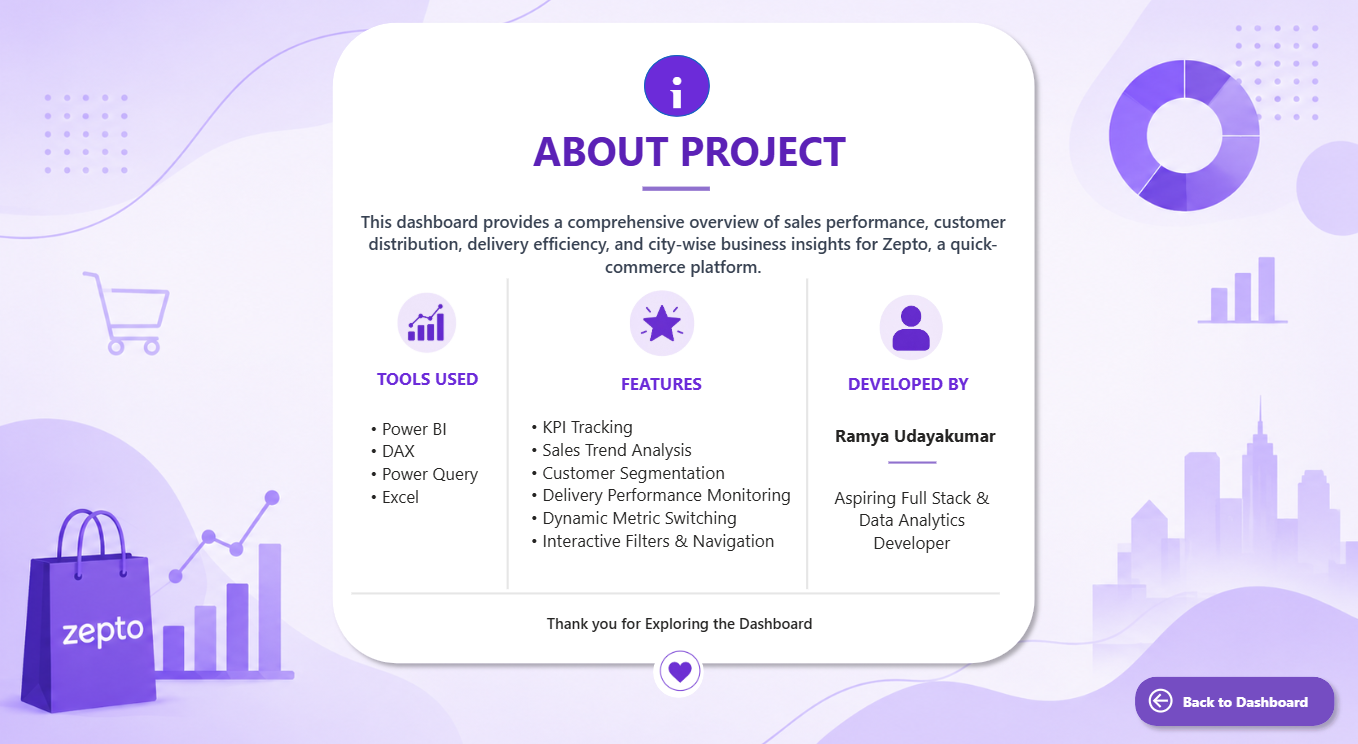

The page's visual inventory and layout, read from the dashboard file:
{"tool":"powerbi","page":{"name":"About","canvas":[1280,720],"ordinal":2},"visuals":[{"type":"shape","title":"Rectangle behind","box":[304.3,23.1,677.9,620.1],"z":0},{"type":"shape","title":"Info","box":[606.2,61.6,61.9,58.2],"z":0,"group":"g1"},{"type":"image","title":"Icon","box":[370,277,66,76],"z":0,"group":"g4"},{"type":"image","title":"Icon","box":[562,282,124,64],"z":0,"group":"g2"},{"type":"image","title":"Icon","box":[816,286,85,64],"z":0,"group":"g3"},{"type":"actionButton","box":[1059.5,637.9,205.6,64.4],"z":0,"group":"g5"},{"type":"group","id":"g1","title":"About Section","box":[325.3,61.6,634.7,221.1],"z":1000},{"type":"textbox","title":"About Project","box":[447.5,120.6,401.5,66.1],"z":1000,"group":"g1"},{"type":"textbox","title":"Sub header","box":[331,350,143,42],"z":1000,"group":"g4"},{"type":"textbox","title":"Sub header","box":[491,354,264,38],"z":1000,"group":"g2"},{"type":"textbox","title":"Sub header","box":[774,354,161,41],"z":1000,"group":"g3"},{"type":"actionButton","box":[1076.2,653.5,35.6,32.2],"z":1000,"group":"g5"},{"type":"shape","title":"Line","box":[604.6,178.8,63.5,17.3],"z":2000,"group":"g1"},{"type":"group","id":"g2","title":"Features","box":[491,282,265.7,286],"z":2000},{"type":"textbox","title":"Points","box":[495.7,394.5,261,173.5],"z":2000,"group":"g2"},{"type":"textbox","title":"Points","box":[343.5,397.4,131.3,137.5],"z":2000,"group":"g4"},{"type":"textbox","title":"Points","box":[776.9,403.2,168.8,34.4],"z":2000,"group":"g3"},{"type":"textbox","title":"Description","box":[325.3,200.9,634.7,81.8],"z":3000,"group":"g1"},{"type":"group","id":"g3","title":"Developed by","box":[771.6,286,174.1,278.4],"z":3000},{"type":"shape","title":"Line","box":[836,428,45,33],"z":3000,"group":"g3"},{"type":"group","id":"g4","title":"Tools Used","box":[331,277,143.8,257.9],"z":4000},{"type":"textbox","box":[771.6,461.2,173.5,103.2],"z":4000,"group":"g3"},{"type":"group","id":"g5","title":"Back Button","box":[1059.5,637.9,205.3,64.7],"z":5000},{"type":"shape","box":[459,272,37,292],"z":6000},{"type":"shape","box":[741,272,36,292],"z":7000},{"type":"shape","box":[331.6,555.8,609.5,25.3],"z":8000},{"type":"shape","box":[615.3,617.4,47.9,48.9],"z":9000},{"type":"image","box":[618.4,622.1,42.6,38.4],"z":10000},{"type":"textbox","box":[427.5,581.2,425,36.2],"z":11000}]}

Visuals, with their boxes in screenshot pixels (x1, y1, x2, y2), scaled from the page's 1280x720 canvas onto the 1358x744 screenshot:
"Rectangle behind" shape: [left=323, top=24, right=1042, bottom=665]
"Info" shape: [left=643, top=64, right=709, bottom=124]
"Icon" image: [left=393, top=286, right=463, bottom=365]
"Icon" image: [left=596, top=291, right=728, bottom=358]
"Icon" image: [left=866, top=296, right=956, bottom=362]
actionButton: [left=1124, top=659, right=1342, bottom=726]
"About Section" group: [left=345, top=64, right=1019, bottom=292]
"About Project" textbox: [left=475, top=125, right=901, bottom=193]
"Sub header" textbox: [left=351, top=362, right=503, bottom=405]
"Sub header" textbox: [left=521, top=366, right=801, bottom=405]
"Sub header" textbox: [left=821, top=366, right=992, bottom=408]
actionButton: [left=1142, top=675, right=1180, bottom=709]
"Line" shape: [left=641, top=185, right=709, bottom=203]
"Features" group: [left=521, top=291, right=803, bottom=587]
"Points" textbox: [left=526, top=408, right=803, bottom=587]
"Points" textbox: [left=364, top=411, right=504, bottom=553]
"Points" textbox: [left=824, top=417, right=1003, bottom=452]
"Description" textbox: [left=345, top=208, right=1019, bottom=292]
"Developed by" group: [left=819, top=296, right=1003, bottom=583]
"Line" shape: [left=887, top=442, right=935, bottom=476]
"Tools Used" group: [left=351, top=286, right=504, bottom=553]
textbox: [left=819, top=477, right=1003, bottom=583]
"Back Button" group: [left=1124, top=659, right=1342, bottom=726]
shape: [left=487, top=281, right=526, bottom=583]
shape: [left=786, top=281, right=824, bottom=583]
shape: [left=352, top=574, right=998, bottom=600]
shape: [left=653, top=638, right=704, bottom=689]
image: [left=656, top=643, right=701, bottom=683]
textbox: [left=454, top=601, right=904, bottom=638]
